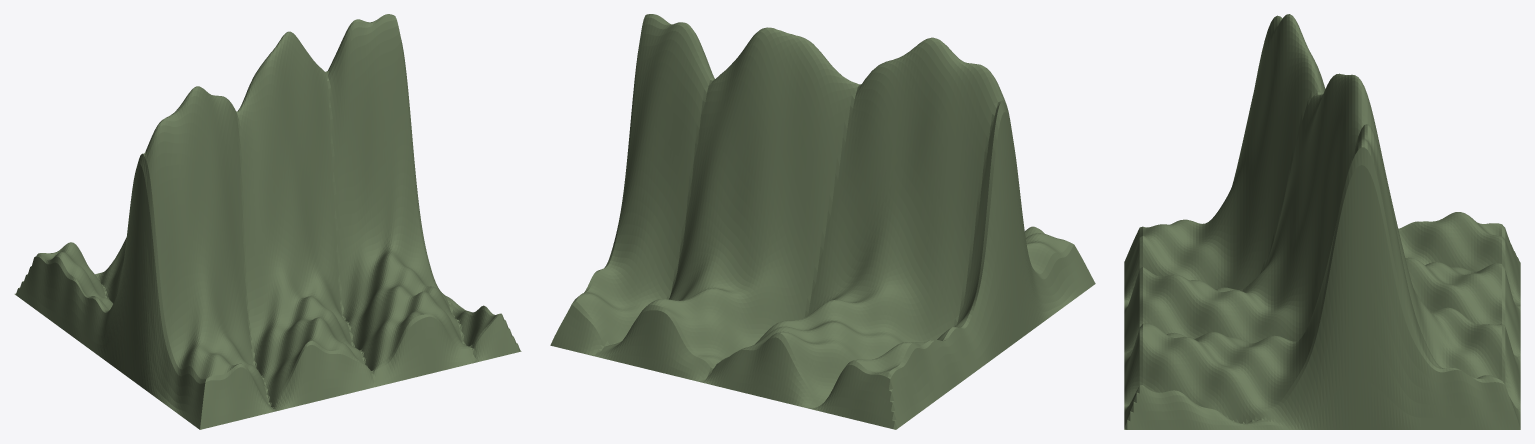
Rendered from pine_snowline_ridge.obj.
The picture shows the model from 3 angles, left to right: view 1: azimuth 30°, elevation 25°; view 2: azimuth 150°, elevation 25°; view 3: azimuth 270°, elevation 25°; orthographic projection. The views are drawn at different scales.
Parts seen in each view (by area): view 1: pine_snowline_ridge; view 2: pine_snowline_ridge; view 3: pine_snowline_ridge.
Boxes of the visible parts, box(x1,y1,x2,y2) form: pine_snowline_ridge: box(14, 14, 521, 429); pine_snowline_ridge: box(550, 14, 1095, 429); pine_snowline_ridge: box(1124, 14, 1520, 429).
Size of the model in its own units: 28 by 23.27 by 28.
